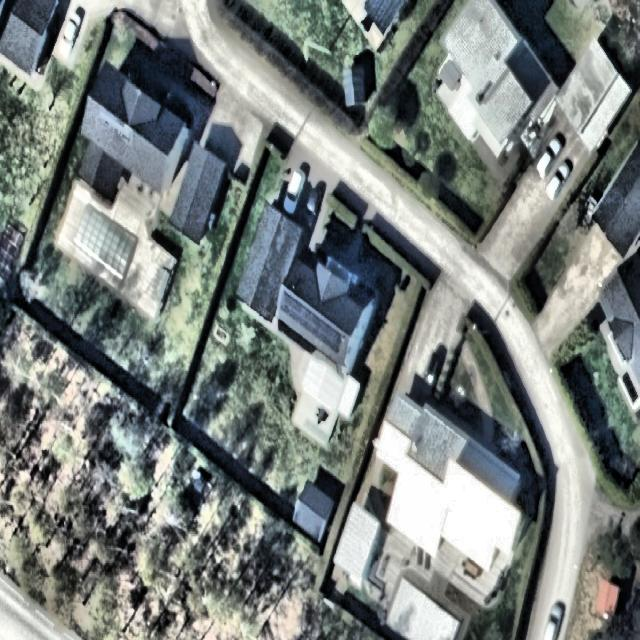roof_pv: (307, 302, 346, 358), (276, 285, 306, 331)
